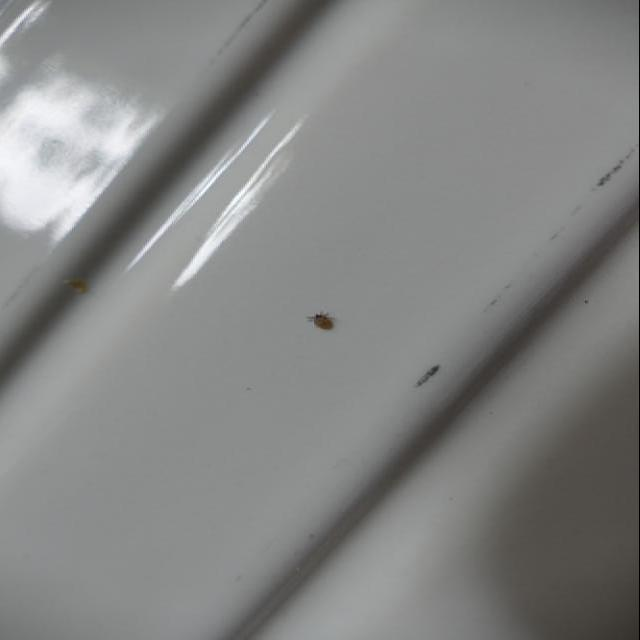Ixodes Ricinus-F: (304, 310, 340, 333)
